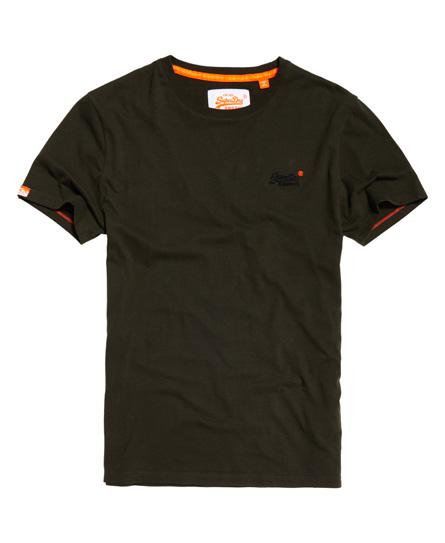teeshirt: (16, 41, 432, 517)
